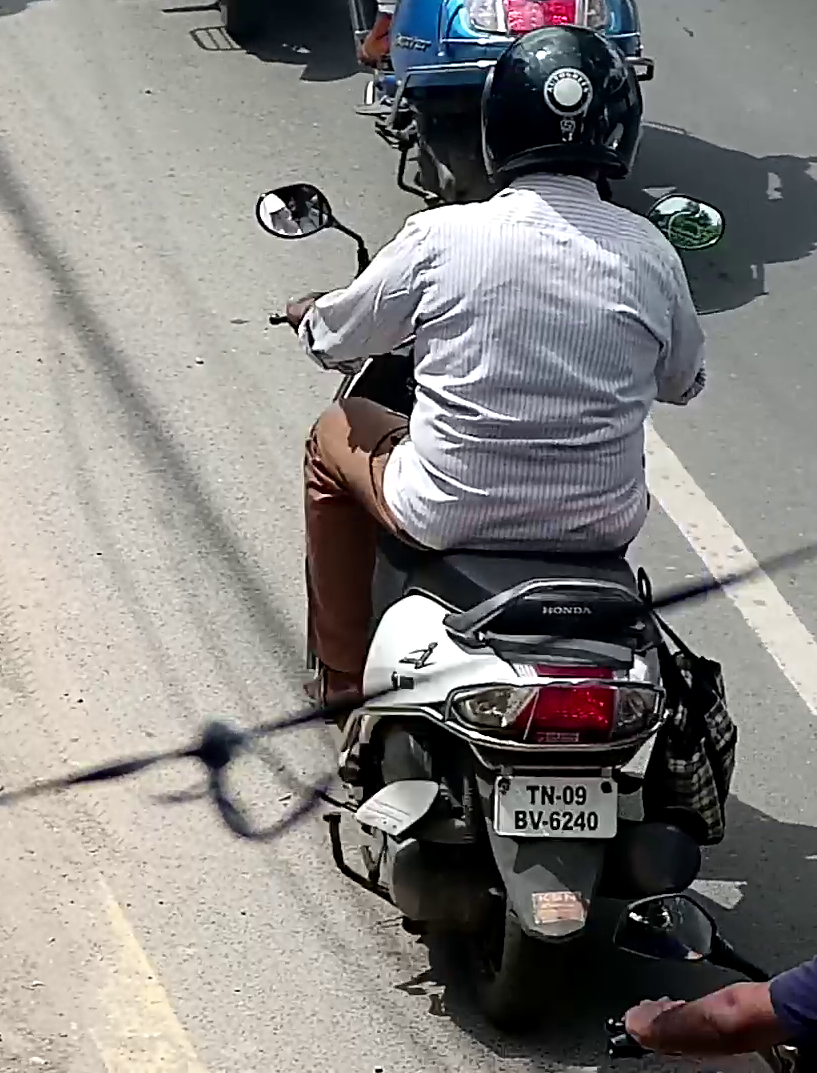-: (542, 820, 548, 826), (556, 795, 561, 801)
0: (586, 811, 599, 831), (562, 785, 574, 805)
2: (561, 810, 573, 831)
4: (573, 810, 586, 832)
6: (549, 811, 561, 831)
9: (574, 785, 587, 806)
B: (514, 809, 527, 830)
N: (540, 784, 555, 806)
P16: (491, 773, 620, 842)
T: (525, 784, 540, 805)
V: (528, 810, 541, 830)
